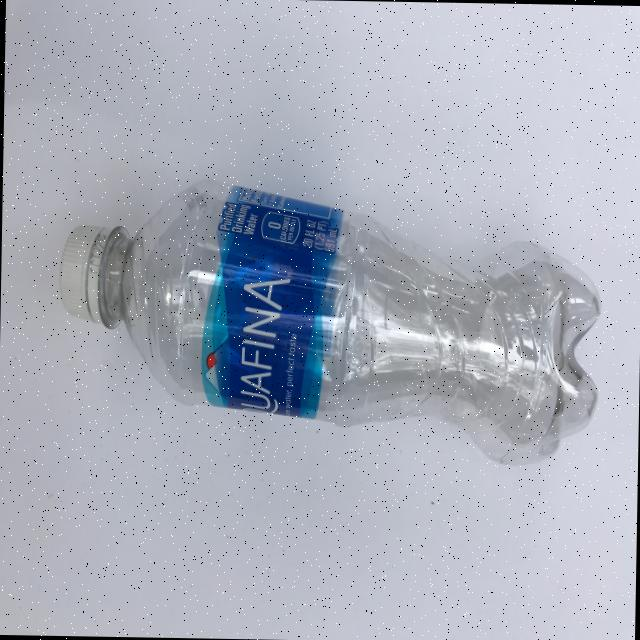plastic: (56, 174, 604, 467)
